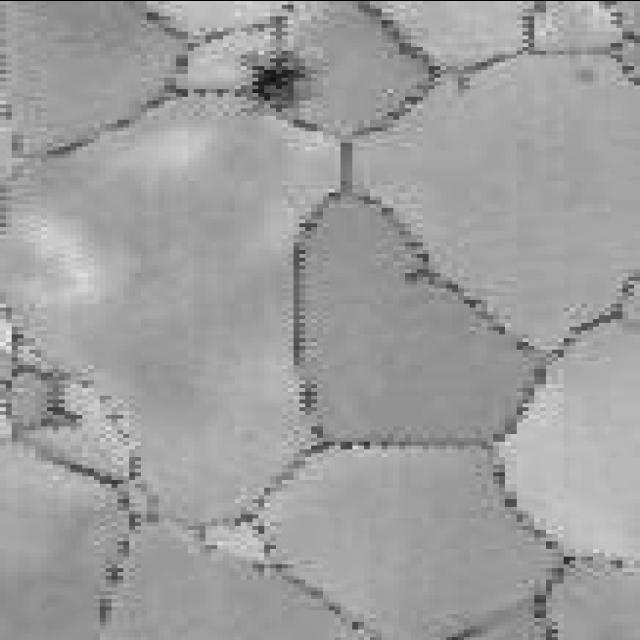good_void: (237, 50, 319, 114)
